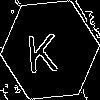K: (25, 25, 59, 73)
